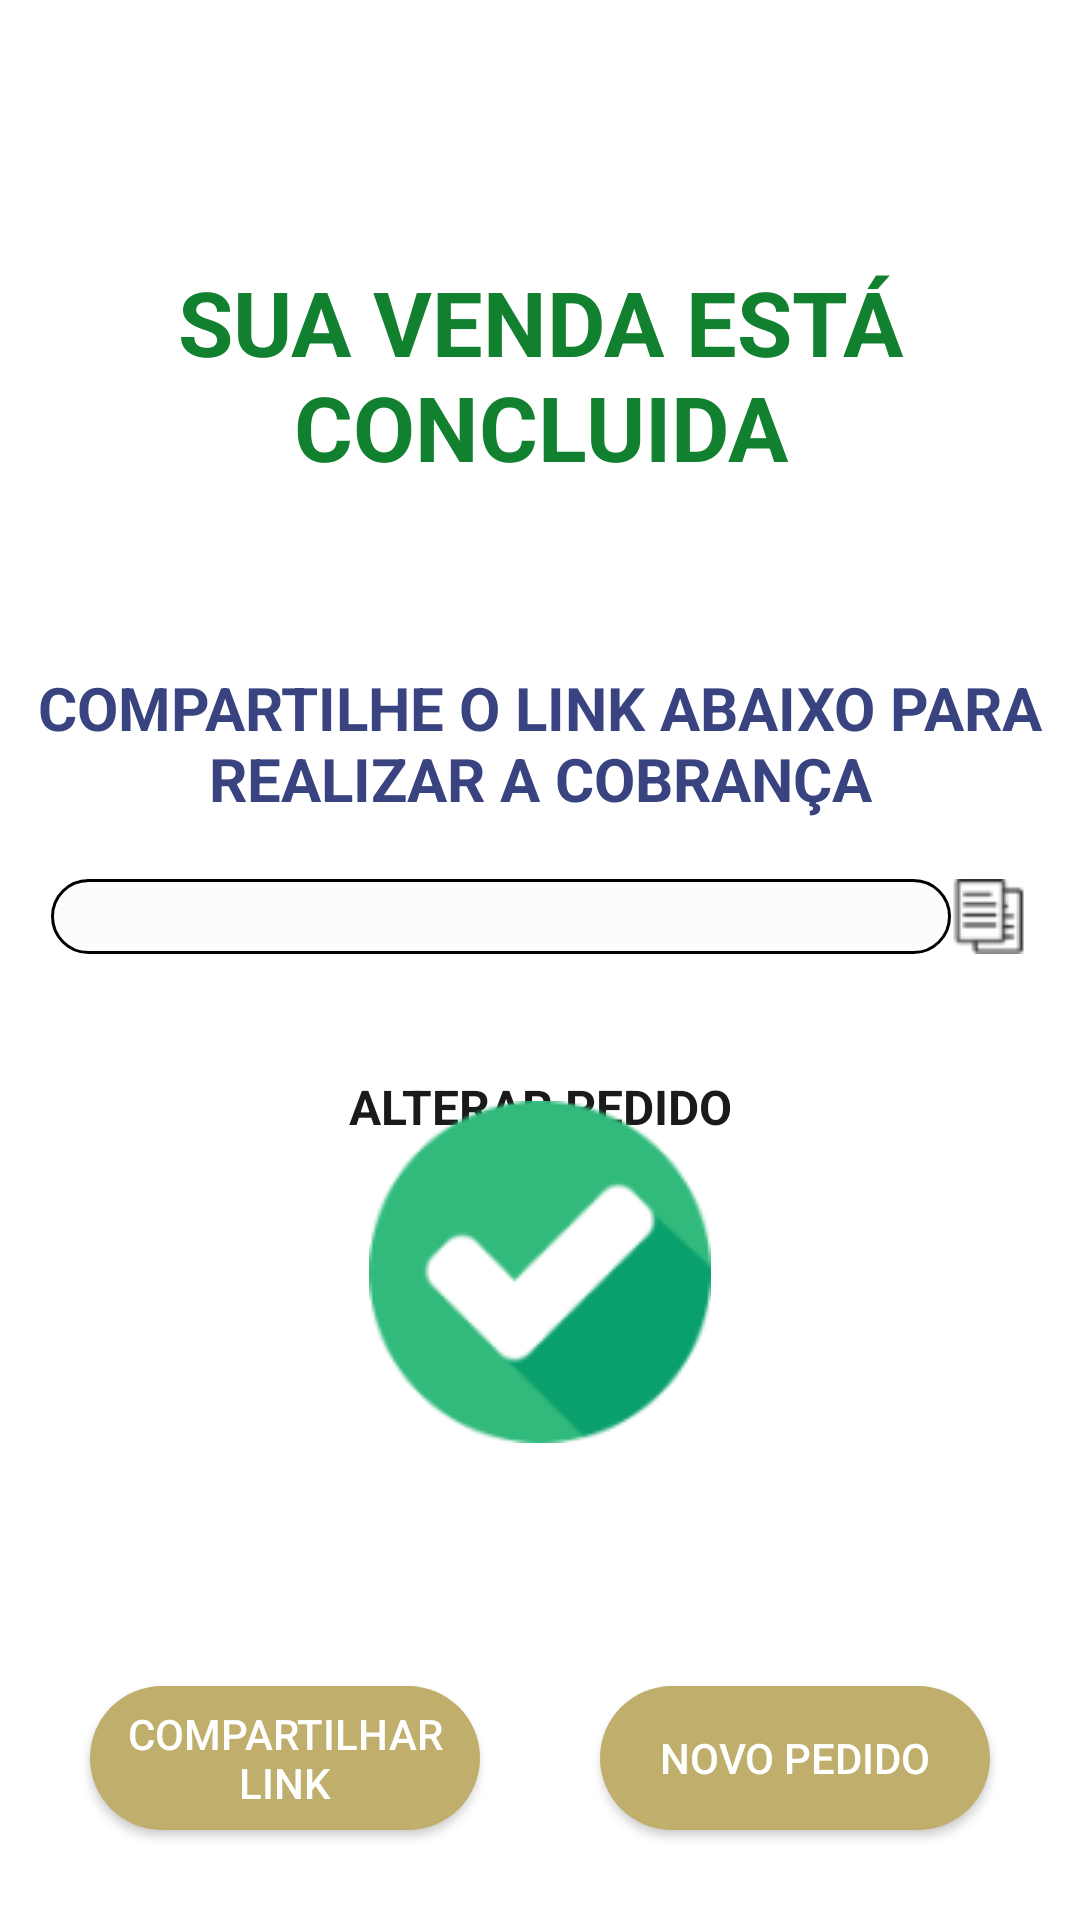

Screen size 1080x1920. Icon name, then its box in pixels as (x1, y1, x2, y2):
copiar: (953, 879, 1024, 954)
